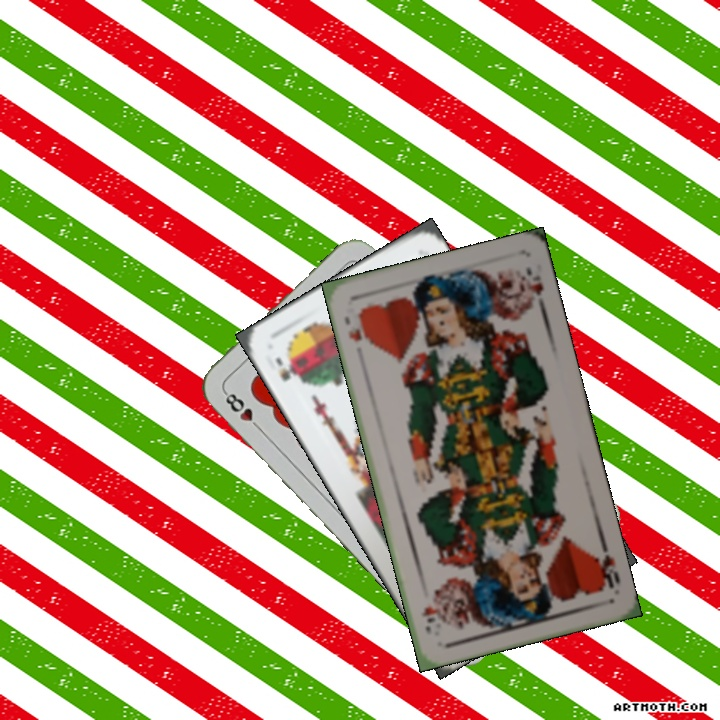H8: (220, 387, 265, 434)
HO: (590, 550, 623, 593), (340, 304, 371, 344)
SK: (271, 353, 299, 384)
